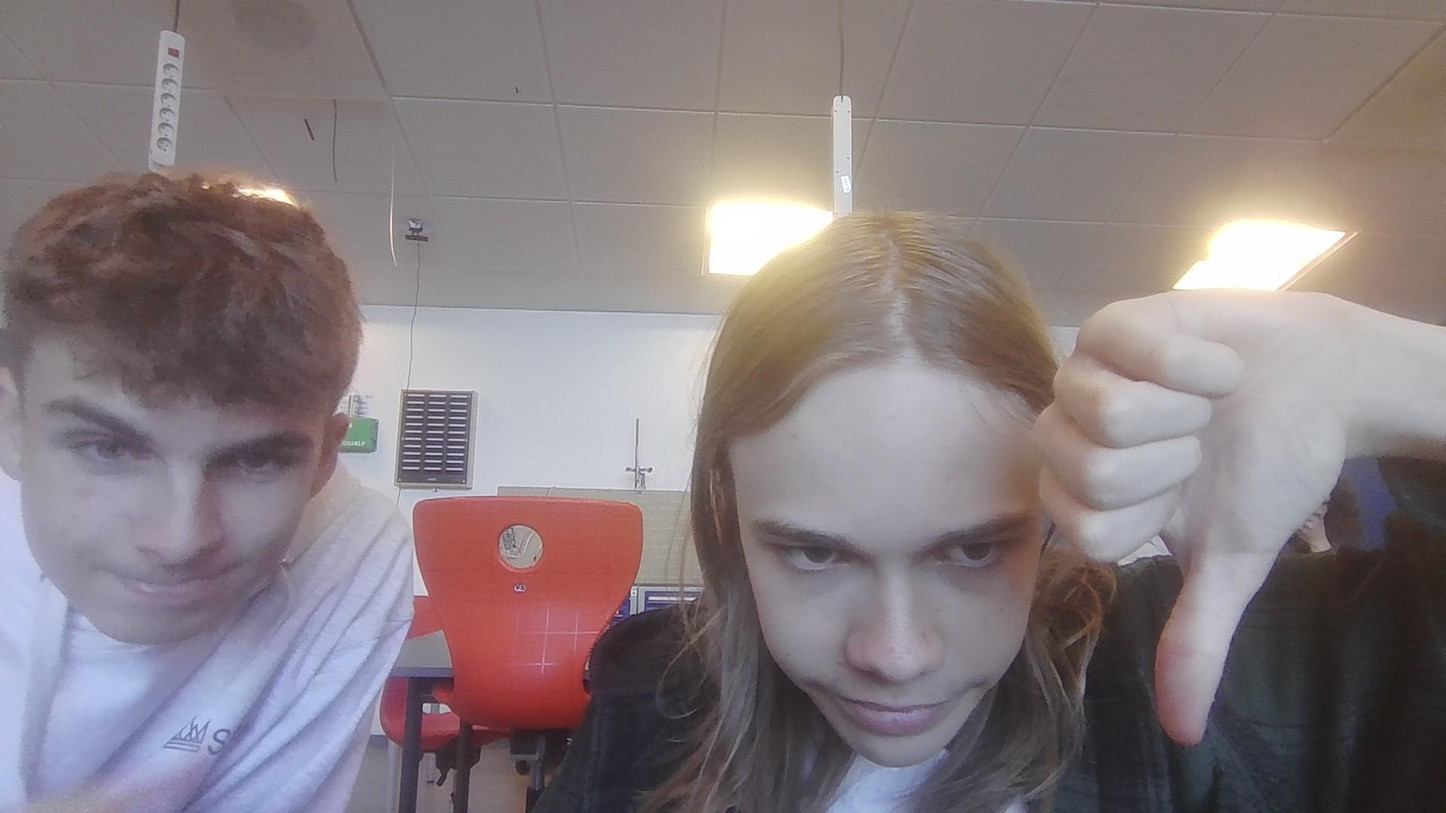thumbs down: (1034, 287, 1358, 743)
